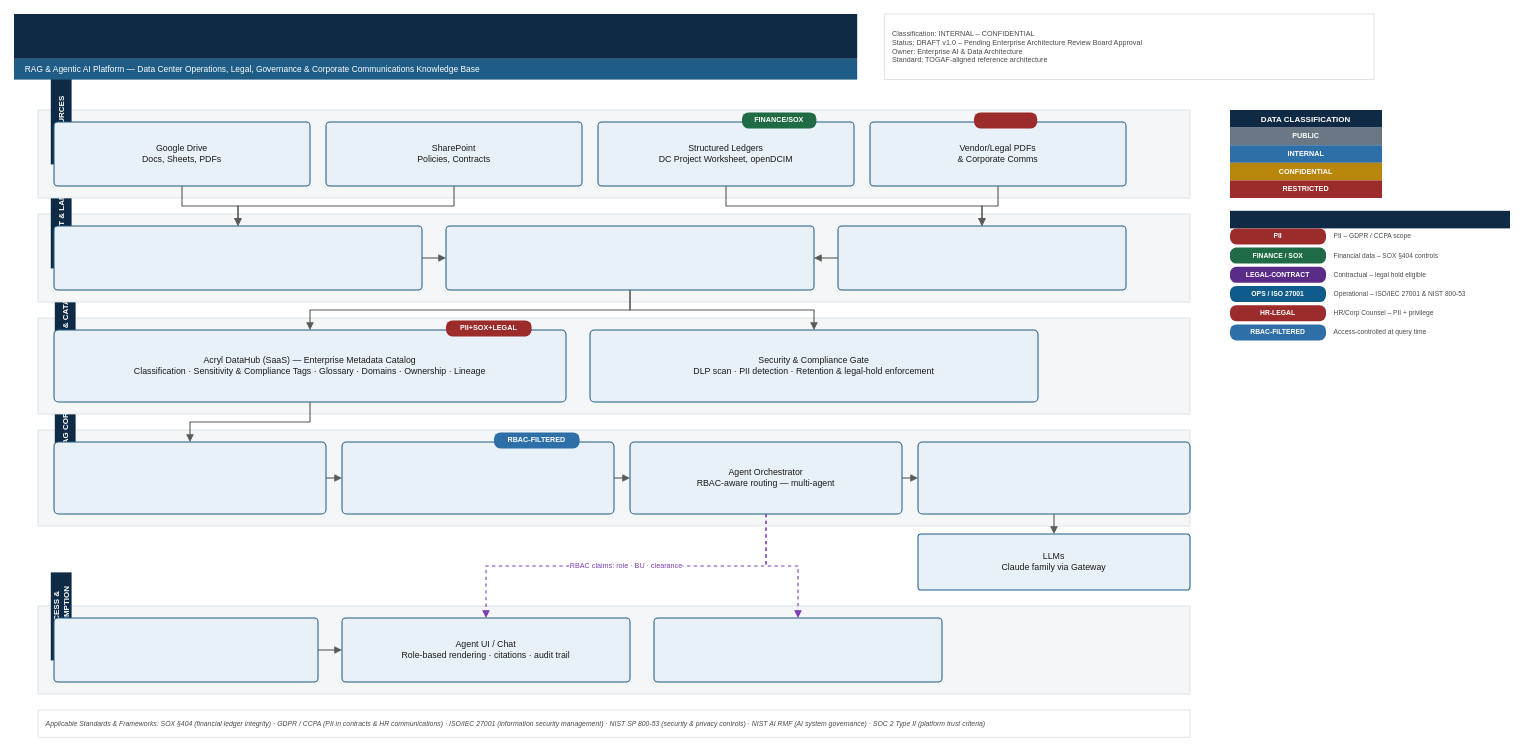
This 1523x751 diagram has some shape labels left out. The centre of each missing label's shape, as x and y in pixels:
AI Gateway Model routing · redaction · audit · rate limit: (1053,477)
API Consumers BI tools · VP/Director report export: (797,649)
AWS S3 Landing Zone raw/ → processed/ → curated/ (SSE-KMS): (629,257)
COMPLIANCE / DOMAIN TAGS: (1370,219)
Connector Layer Drive API / Graph API — delta sync + ACL capture: (237,257)
ENTERPRISE REFERENCE ARCHITECTURE: (435,36)
Identity Provider Azure AD / Okta — SSO + groups: (185,649)
Ingestion Pipeline Parse → Chunk → Embed (per doc-type): (189,477)
LEGAL+PII: (1005,120)
Structured Data Path Sheets/CSV → Glue/Athena → BLUF reporting: (981,257)
Vector Store Qdrant / MongoDB Atlas — RBAC + tag payload: (477,477)
